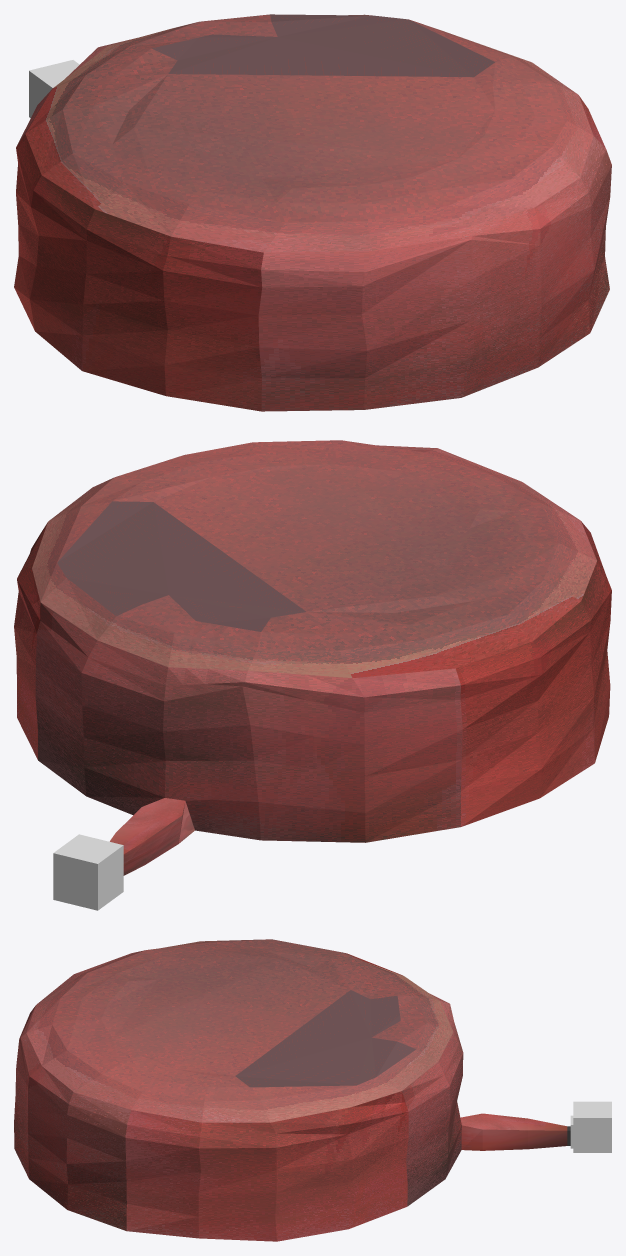
The model's file is map.glb.
The picture shows the model from 3 angles, top to bottom: view 1: azimuth 30°, elevation 25°; view 2: azimuth 150°, elevation 25°; view 3: azimuth 270°, elevation 25°; orthographic projection. The views are drawn at different scales.
Visible parts, largest first — view 1: Cylinder, ELEVATOR; view 2: Cylinder, ELEVATOR; view 3: Cylinder, ELEVATOR.
Boxes of the visible parts, x1=… form: Cylinder: x1=14, y1=14, x2=611, y2=411; ELEVATOR: x1=29, y1=60, x2=79, y2=118; Cylinder: x1=14, y1=440, x2=611, y2=875; ELEVATOR: x1=53, y1=834, x2=123, y2=910; Cylinder: x1=14, y1=939, x2=573, y2=1241; ELEVATOR: x1=573, y1=1101, x2=611, y2=1152.
Size of what is drawn, in the model's own units: 880 by 296 by 1186.
Materials: 3 (1 with a texture image).
